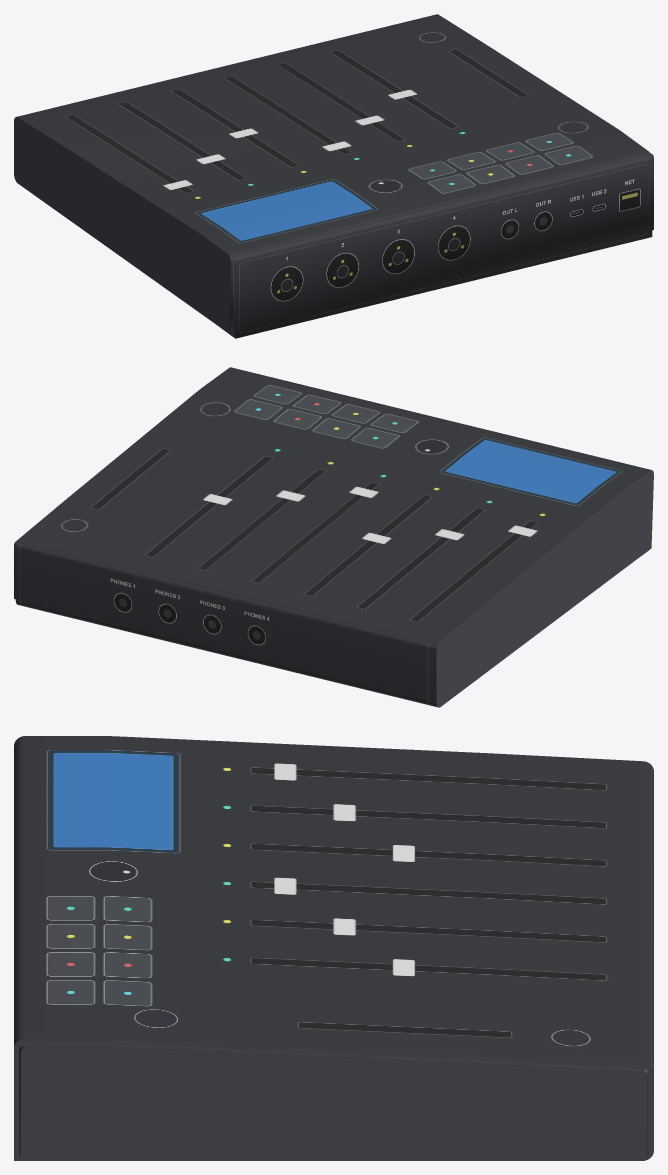
Rendered from rode-rodecaster-pro-ii.glb.
The picture shows the model from 3 angles, top to bottom: view 1: azimuth 30°, elevation 25°; view 2: azimuth 150°, elevation 25°; view 3: azimuth 270°, elevation 25°; orthographic projection. The views are drawn at different scales.
Parts seen in each view (by area): view 1: rode-rodecaster-pro-ii-body; view 2: rode-rodecaster-pro-ii-body; view 3: rode-rodecaster-pro-ii-body.
Boxes of the visible parts, x1=… form: rode-rodecaster-pro-ii-body: x1=14, y1=14, x2=653, y2=338; rode-rodecaster-pro-ii-body: x1=14, y1=367, x2=653, y2=707; rode-rodecaster-pro-ii-body: x1=14, y1=736, x2=653, y2=1160.
Bounding box in the file's own units: 0.305 × 0.06 × 0.27.
Materials: 1 (1 with a texture image).
